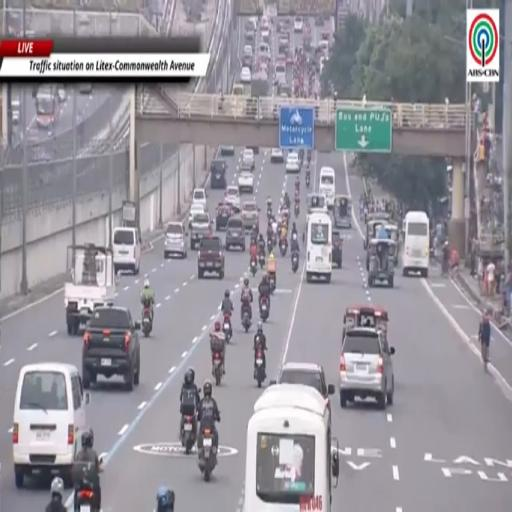bus: (244, 384, 339, 511), (306, 212, 332, 282), (403, 212, 429, 278), (35, 85, 59, 129), (319, 166, 336, 209)
car: (12, 362, 90, 488), (83, 307, 140, 391), (340, 327, 395, 409), (270, 362, 335, 410), (164, 222, 187, 259), (189, 214, 211, 250), (226, 216, 245, 250), (210, 159, 227, 189), (216, 202, 233, 231), (242, 201, 259, 230), (225, 186, 241, 213), (237, 168, 254, 193), (332, 231, 342, 268), (277, 78, 291, 101), (192, 188, 206, 209), (189, 203, 205, 221), (286, 152, 300, 172), (275, 59, 285, 85), (242, 148, 254, 169), (270, 148, 284, 163), (278, 37, 289, 54), (240, 67, 251, 84), (57, 85, 67, 102), (220, 144, 235, 155), (294, 16, 303, 33), (261, 28, 270, 42), (261, 18, 270, 31), (243, 45, 253, 56), (315, 14, 323, 26)
motorcycle: (198, 428, 216, 482), (73, 477, 100, 511), (76, 483, 97, 511), (181, 415, 196, 454), (255, 349, 266, 388), (213, 351, 222, 386), (142, 308, 152, 337), (223, 314, 232, 343), (260, 296, 269, 322), (242, 309, 250, 332), (292, 251, 298, 273), (280, 239, 287, 257), (251, 259, 257, 277), (269, 275, 275, 293), (259, 253, 265, 269), (267, 238, 273, 252), (267, 205, 272, 219), (306, 172, 310, 187), (295, 203, 299, 218)
truck: (65, 244, 117, 334), (198, 236, 224, 279)
